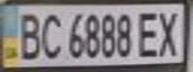6: (63, 9, 84, 60)
8: (81, 9, 103, 60), (115, 9, 136, 58), (100, 10, 118, 58)
B: (12, 9, 45, 61)
C: (36, 9, 66, 61)
E: (136, 8, 163, 59)
X: (154, 7, 184, 57)
